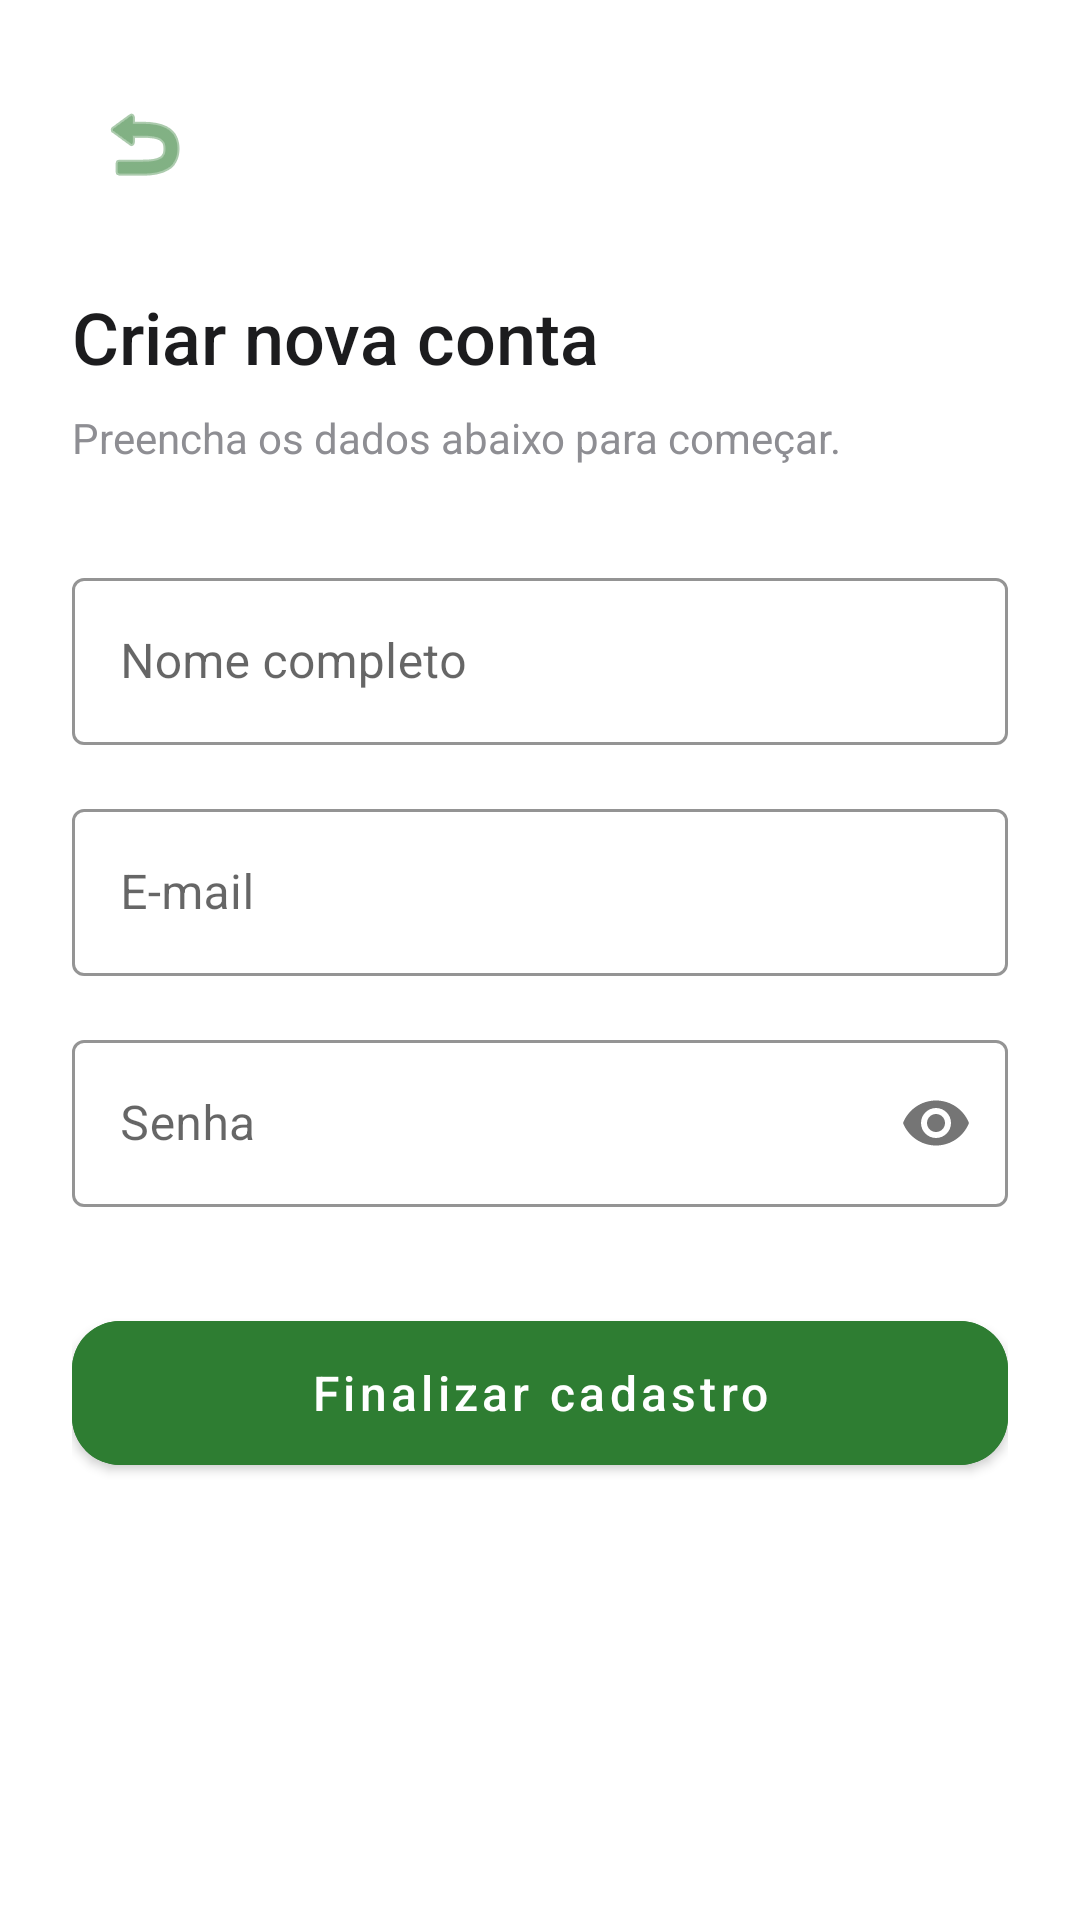

Locate icon controls on the screen. Image size 1080w x 1920h, boxes as (x1, y1, x2, y2).
revert: (111, 113, 180, 176)
